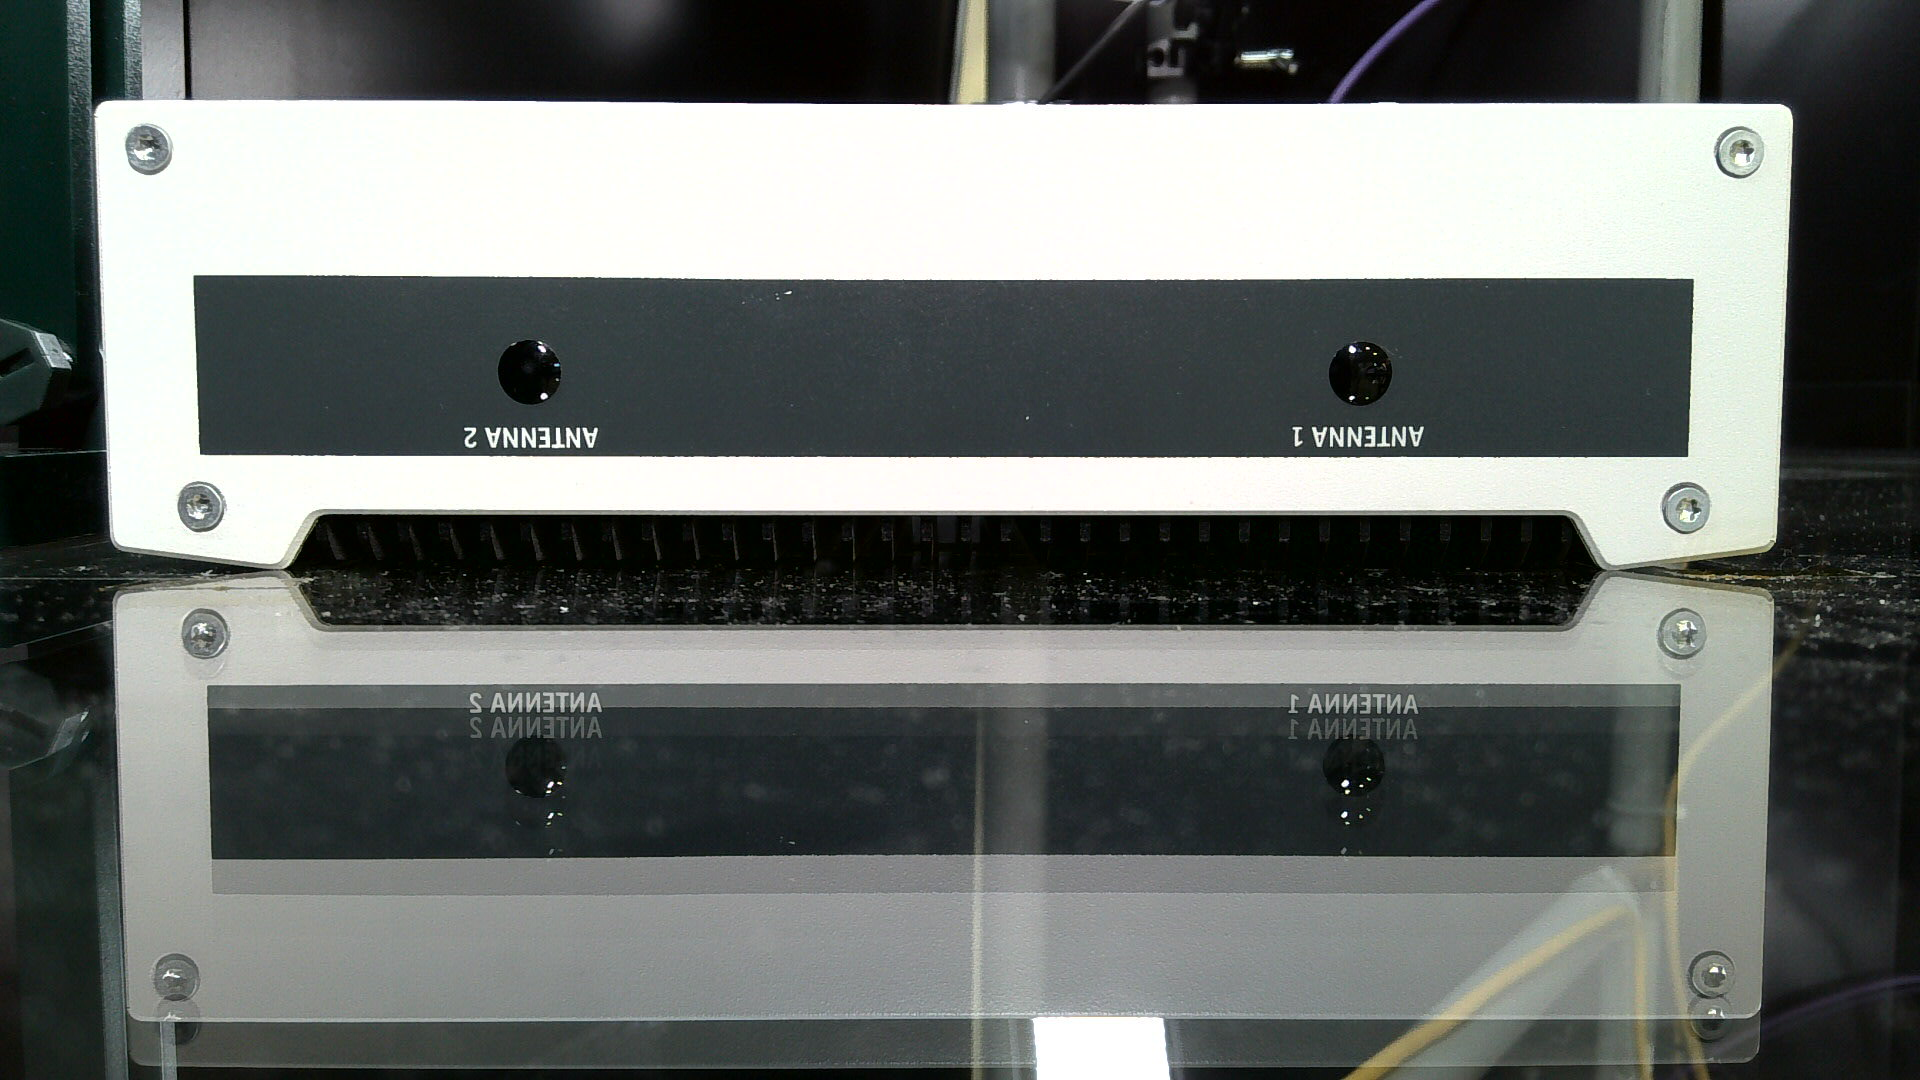CamBack: (62, 73, 1817, 578)
Schraube_gespiegelt: (1677, 944, 1746, 1048), (142, 945, 207, 1054), (171, 603, 235, 691), (1648, 601, 1712, 688)
Schraube_halb: (1650, 473, 1722, 547), (167, 473, 236, 545), (1706, 121, 1774, 189), (112, 119, 178, 183)
